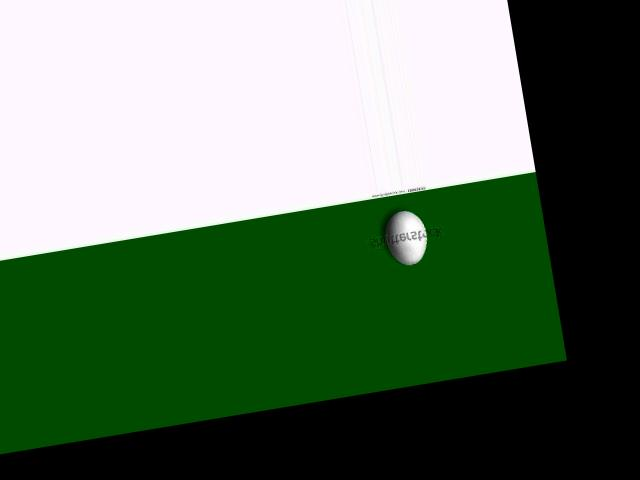egg: (382, 207, 431, 268)
